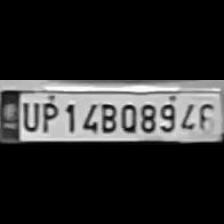0: (117, 98, 137, 132)
1: (60, 98, 78, 132)
4: (78, 98, 98, 132), (176, 98, 196, 130)
8: (138, 100, 156, 132)
9: (156, 98, 176, 132)
B: (97, 98, 117, 132)
P: (38, 97, 60, 131)
U: (20, 97, 38, 130)
